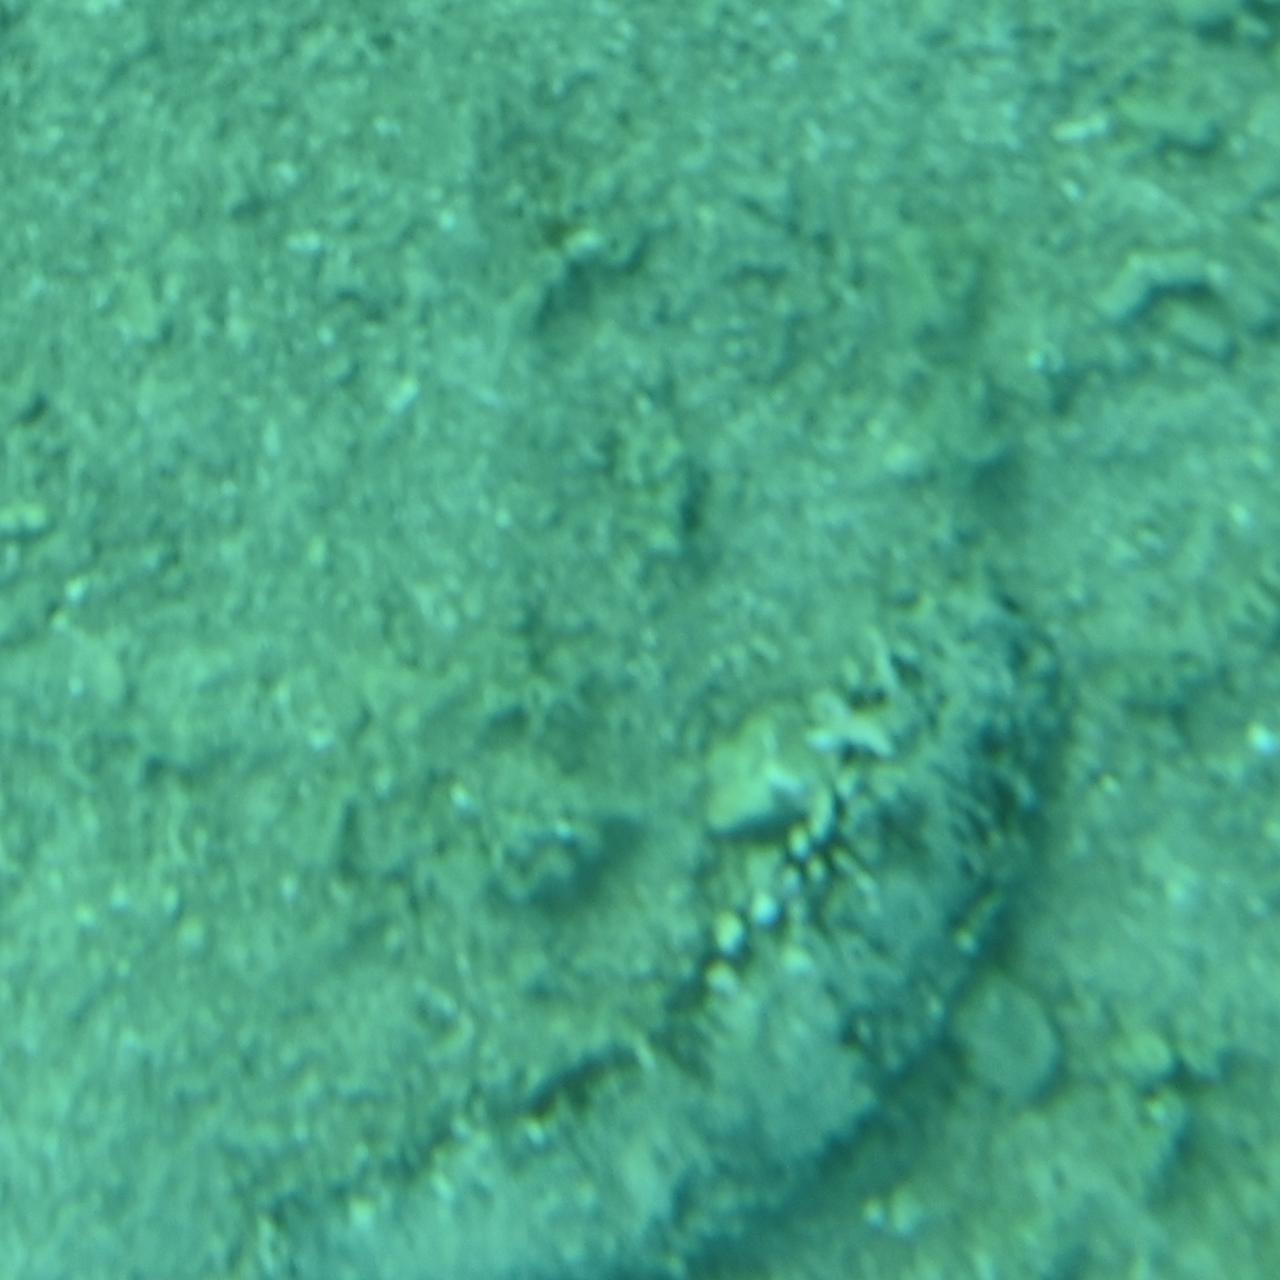Holothuria tubulosa: (184, 546, 1096, 1278)
